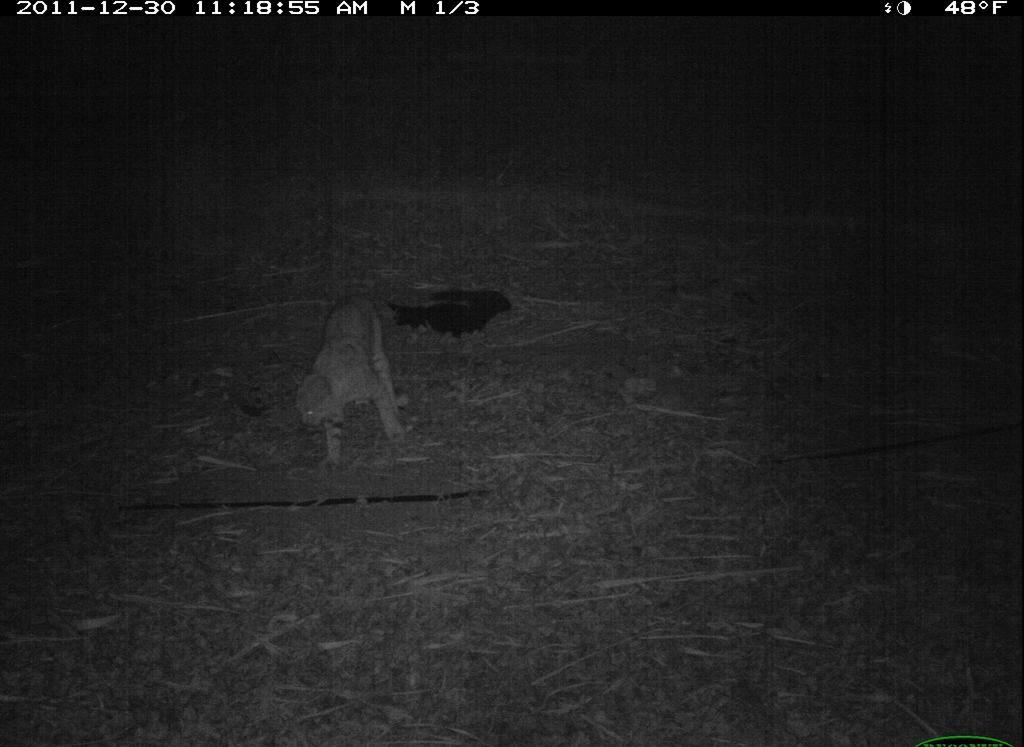bobcat: (282, 289, 421, 469)
